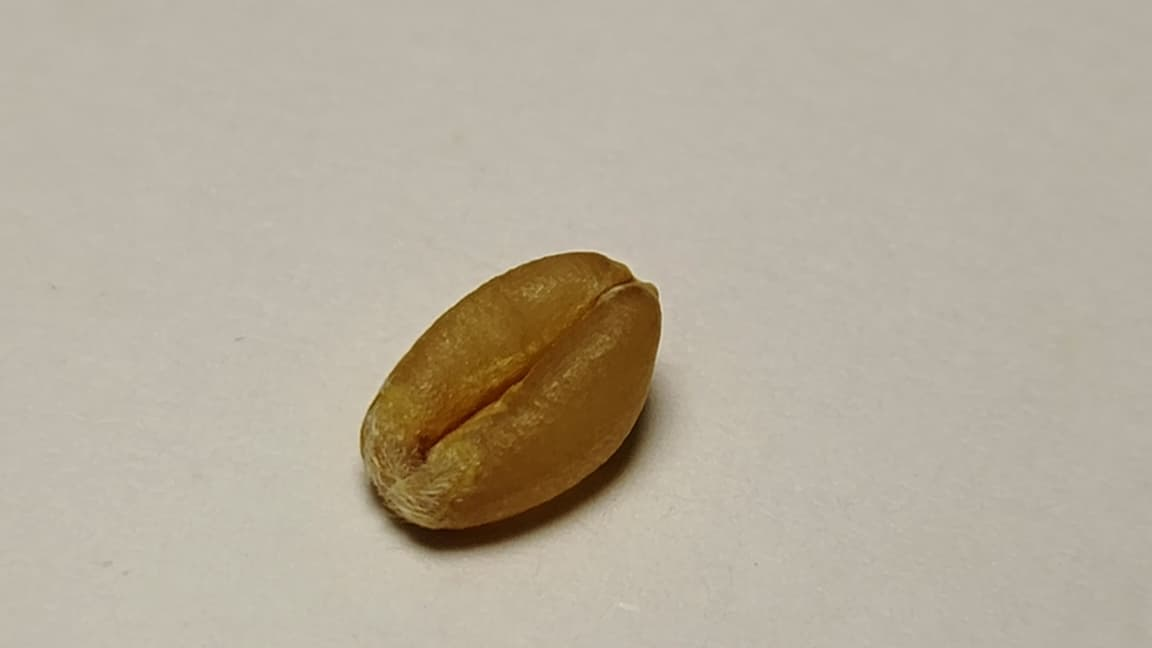healthy: (361, 252, 660, 527)
